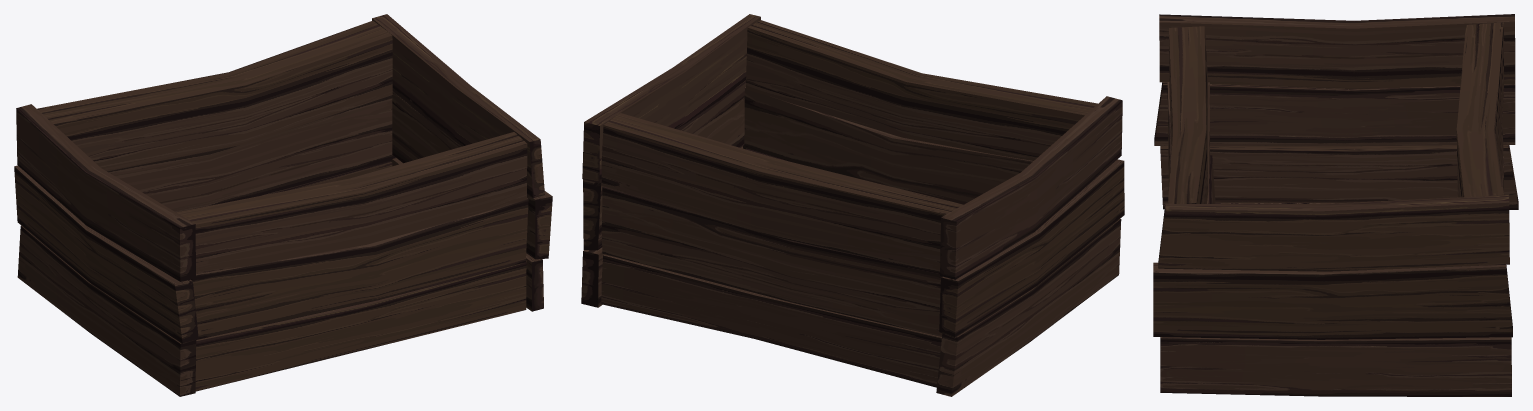
Rendered from SM_PROP_crate_battle_02.fbx.
The picture shows the model from 3 angles, left to right: view 1: azimuth 30°, elevation 25°; view 2: azimuth 150°, elevation 25°; view 3: azimuth 270°, elevation 25°; orthographic projection. The views are drawn at different scales.
Visible parts, largest first — view 1: SM_PROP_crate_battle_02; view 2: SM_PROP_crate_battle_02; view 3: SM_PROP_crate_battle_02.
Boxes of the visible parts, box(x1,y1,x2,y2) form: SM_PROP_crate_battle_02: box(14, 14, 552, 396); SM_PROP_crate_battle_02: box(581, 14, 1124, 396); SM_PROP_crate_battle_02: box(1153, 14, 1518, 396).
Size of the model in its own units: 67.06 by 30.92 by 51.76.
